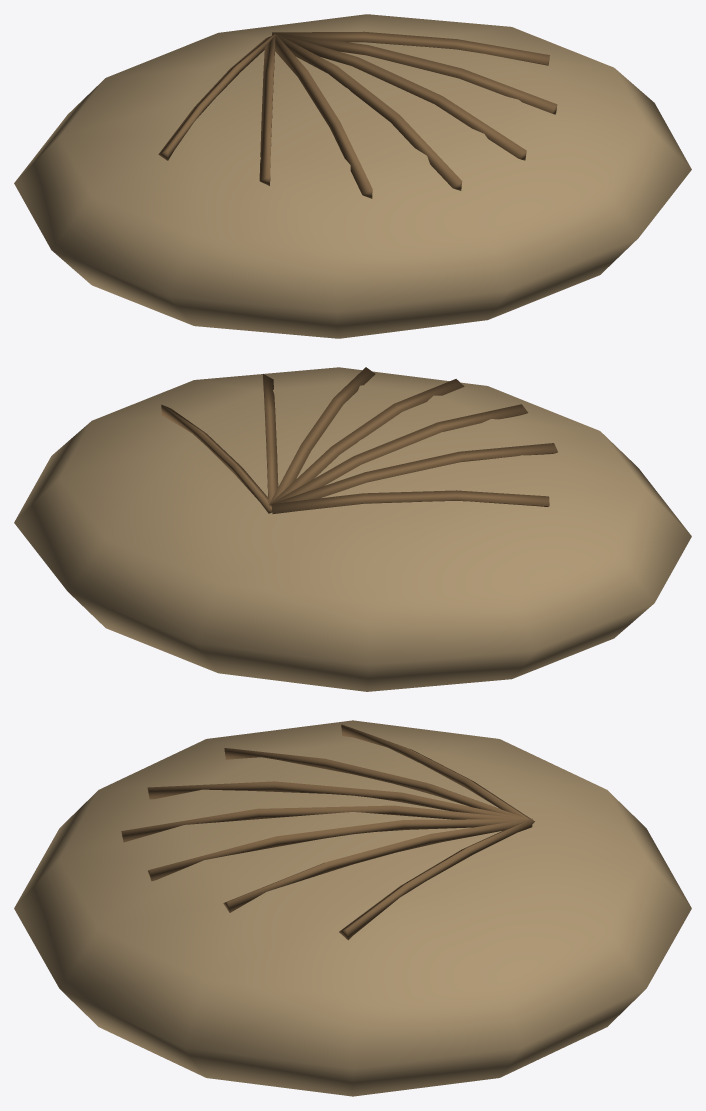
Rendered from exhibit_shell_fragment.glb.
3 views of the same model, one above another, from view 1: azimuth 30°, elevation 25°; view 2: azimuth 150°, elevation 25°; view 3: azimuth 270°, elevation 25° (orthographic). The views are drawn at different scales.
Parts seen in each view (by area): view 1: Body; view 2: Body; view 3: Body.
Part boxes in pixels (box(x1,y1,x2,y2)): Body: box(14, 14, 691, 338); Body: box(14, 367, 691, 691); Body: box(14, 720, 691, 1096).
Bounding box in the file's own units: 0.28 × 0.0825 × 0.25.
